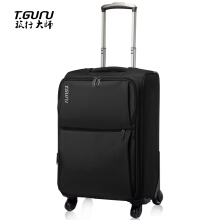luggage: (59, 2, 166, 219)
